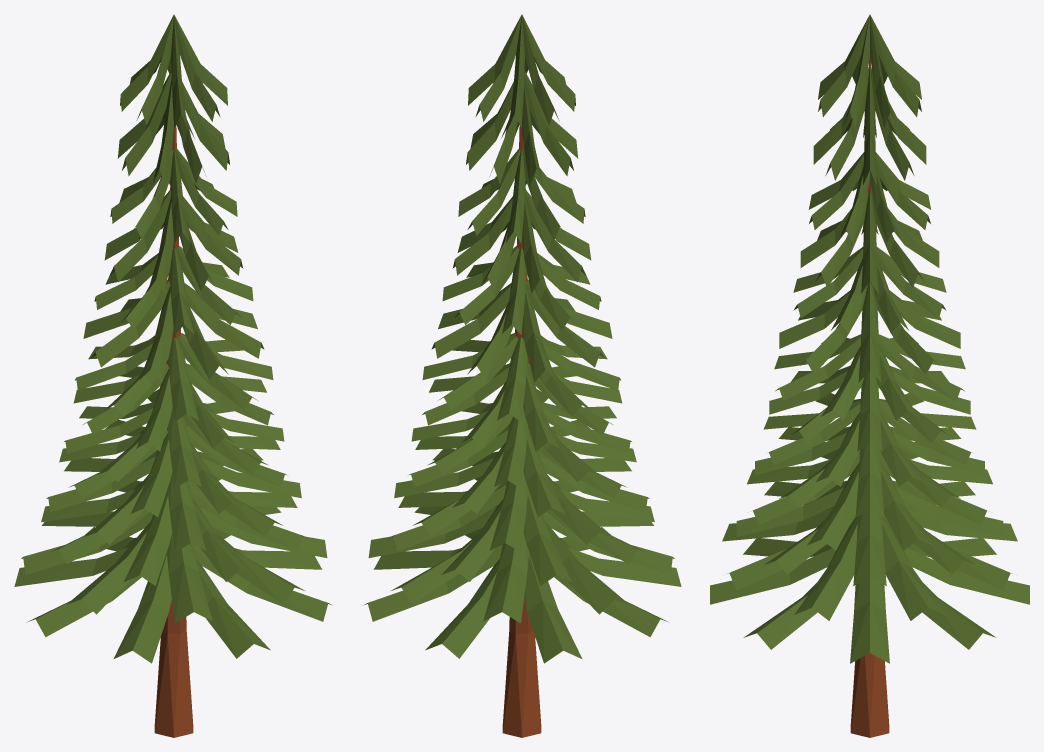
Rendered from needle_pine_large.fbx.
3 views of the same model, side by side, from view 1: azimuth 30°, elevation 25°; view 2: azimuth 150°, elevation 25°; view 3: azimuth 270°, elevation 25° (orthographic).
Parts seen in each view (by area): view 1: G-Object.014, G-Object.015, G-Object.012, G-Object.013, G-Object.007, G-Object.003, G-Object.002, G-Object.001, G-Object.009, G-Object.008, G-Object.011, G-Object.004 (+3 smaller); view 2: G-Object.014, G-Object.015, G-Object.012, G-Object.013, G-Object.007, G-Object.003, G-Object.002, G-Object.001, G-Object.009, G-Object.008, G-Object.011, G-Object.004 (+3 smaller); view 3: G-Object.014, G-Object.015, G-Object.012, G-Object.013, G-Object.003, G-Object.007, G-Object.002, G-Object.001, G-Object.009, G-Object.011, G-Object.004, G-Object.008 (+3 smaller).
Boxes of the visible parts, x1,y1,x2,y2 form: G-Object.014: (14, 527, 332, 663); G-Object.015: (21, 505, 327, 623); G-Object.012: (41, 476, 305, 585); G-Object.013: (46, 448, 301, 552); G-Object.007: (83, 280, 264, 382); G-Object.003: (64, 389, 284, 488); G-Object.002: (59, 420, 287, 517); G-Object.001: (75, 333, 273, 421); G-Object.009: (73, 363, 273, 451); G-Object.008: (104, 190, 243, 293); G-Object.011: (94, 246, 253, 334); G-Object.004: (120, 14, 227, 128); G-Object.014: (363, 527, 681, 663); G-Object.015: (368, 505, 674, 623); G-Object.012: (390, 476, 654, 585); G-Object.013: (394, 448, 649, 552); G-Object.007: (431, 280, 612, 382); G-Object.003: (411, 389, 631, 488); G-Object.002: (408, 420, 636, 517); G-Object.001: (422, 333, 620, 421); G-Object.009: (422, 363, 622, 451); G-Object.008: (452, 190, 591, 293); G-Object.011: (442, 246, 601, 334); G-Object.004: (468, 14, 575, 128); G-Object.014: (710, 538, 1029, 663); G-Object.015: (722, 497, 1017, 620); G-Object.012: (736, 480, 1003, 585); G-Object.013: (747, 442, 992, 550); G-Object.003: (763, 393, 976, 486); G-Object.007: (779, 282, 960, 382); G-Object.002: (755, 426, 984, 517); G-Object.001: (774, 334, 965, 420); G-Object.009: (769, 366, 970, 451); G-Object.011: (793, 247, 946, 333); G-Object.004: (818, 14, 921, 127); G-Object.008: (800, 191, 939, 293).
Size of the model in its own units: 583 by 1439 by 583.
